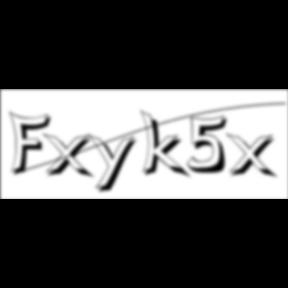5: (186, 114, 234, 176)
F: (9, 110, 57, 178)
k: (140, 108, 194, 181)
x: (226, 132, 282, 181), (42, 132, 97, 181)
y: (88, 132, 142, 196)
